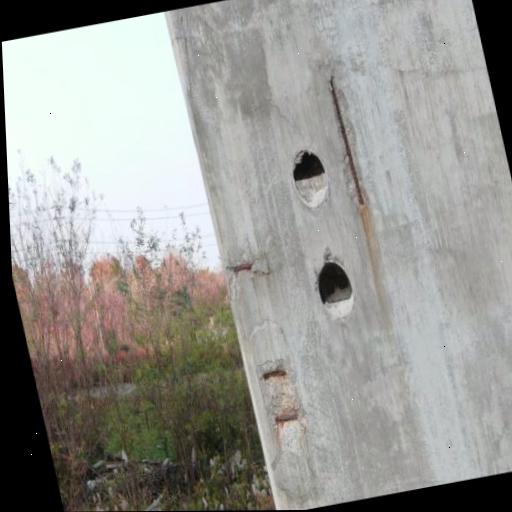exposed_rebar: (331, 90, 364, 204), (274, 411, 298, 425), (230, 261, 252, 275), (263, 368, 286, 379)
